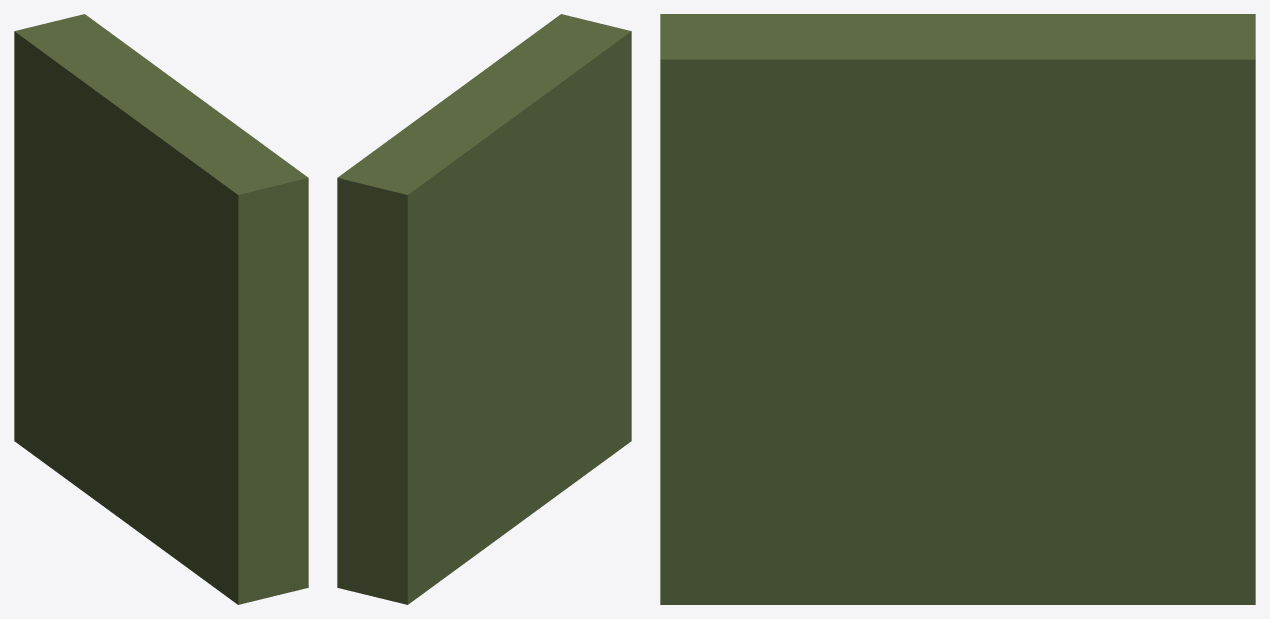
File: bunker_door_open.obj
3 views of the same model, side by side, from view 1: azimuth 30°, elevation 25°; view 2: azimuth 150°, elevation 25°; view 3: azimuth 270°, elevation 25° (orthographic). The views are drawn at different scales.
Visible parts, largest first — view 1: bunker_door_open; view 2: bunker_door_open; view 3: bunker_door_open.
Part boxes in pixels (bbox=[...]): bunker_door_open: bbox=[14, 14, 308, 604]; bunker_door_open: bbox=[337, 14, 631, 604]; bunker_door_open: bbox=[660, 14, 1255, 604].
Size of the model in its own units: 0.36 by 2 by 1.98.
